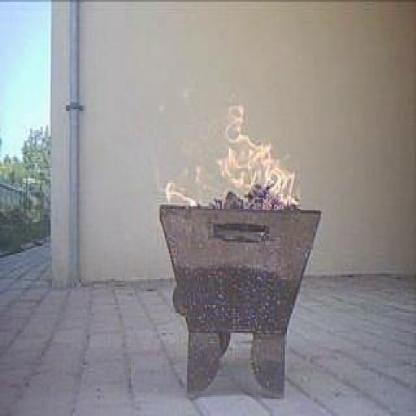fire: (151, 92, 304, 206)
